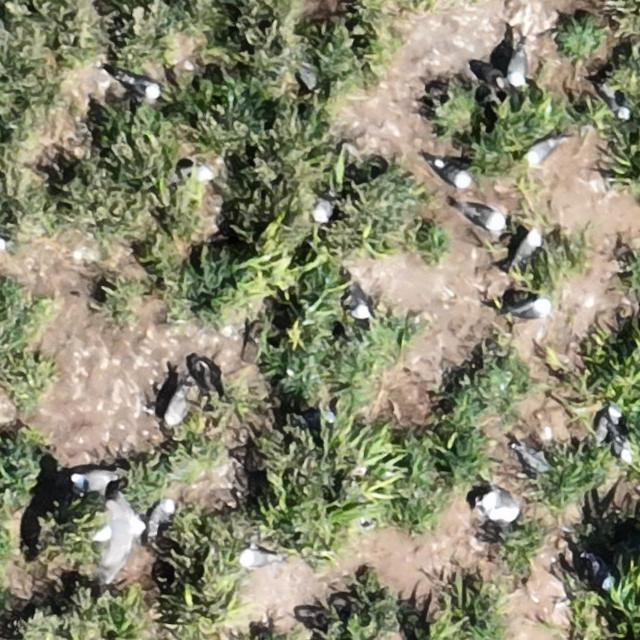F: (99, 494, 140, 578)
umineko: (477, 484, 519, 522), (164, 378, 194, 426), (588, 550, 617, 591), (612, 422, 633, 464), (436, 162, 470, 186), (312, 194, 339, 224), (469, 208, 504, 230), (150, 498, 174, 530), (122, 77, 158, 98), (527, 137, 557, 162), (78, 471, 112, 492), (507, 51, 527, 86), (515, 232, 540, 260), (518, 446, 546, 471), (241, 550, 278, 568), (515, 300, 548, 318), (348, 295, 371, 320)
